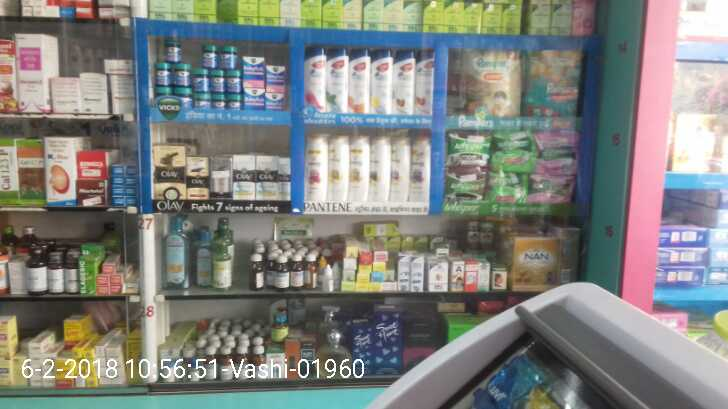beauty: (152, 144, 185, 199), (408, 135, 431, 207), (306, 132, 330, 198), (392, 47, 416, 111), (303, 46, 327, 110), (329, 135, 351, 202), (371, 134, 392, 202), (349, 135, 370, 200), (327, 47, 349, 109), (350, 48, 371, 112), (372, 51, 392, 110), (391, 136, 408, 203), (185, 155, 211, 198), (232, 155, 256, 199), (256, 157, 277, 201), (277, 157, 292, 200)
pharmacy: (461, 47, 521, 119), (521, 45, 579, 118), (490, 129, 537, 172), (532, 132, 576, 176), (444, 128, 491, 166), (443, 168, 487, 203), (526, 176, 577, 201), (193, 68, 242, 94), (488, 175, 530, 204), (153, 61, 192, 89), (221, 45, 240, 73), (200, 45, 219, 71)
